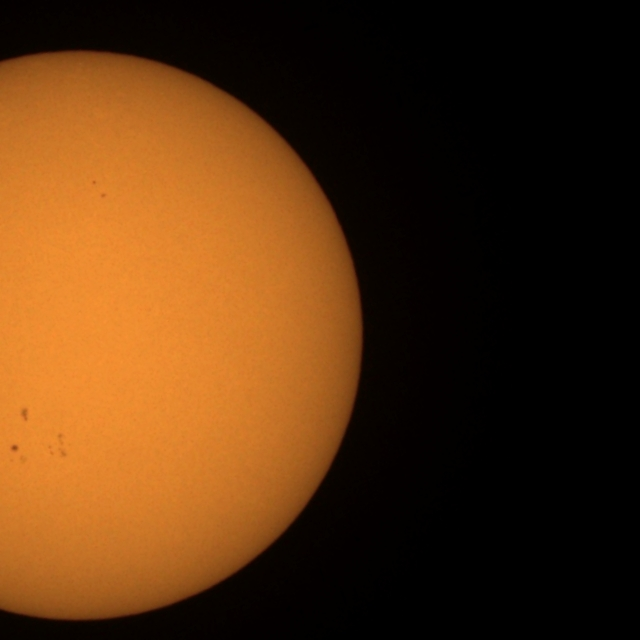sunspot: (47, 433, 69, 459), (9, 444, 28, 466), (91, 179, 108, 199), (19, 406, 30, 422), (10, 443, 20, 453), (99, 192, 107, 199), (91, 179, 98, 186)
